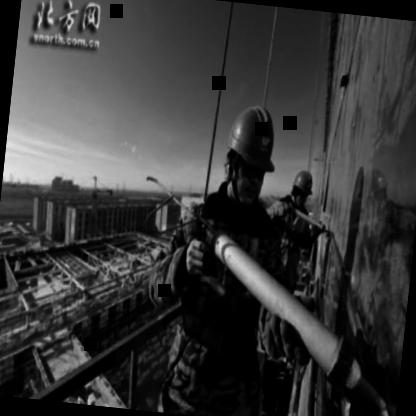helmet: (222, 96, 286, 218), (286, 162, 316, 209)
